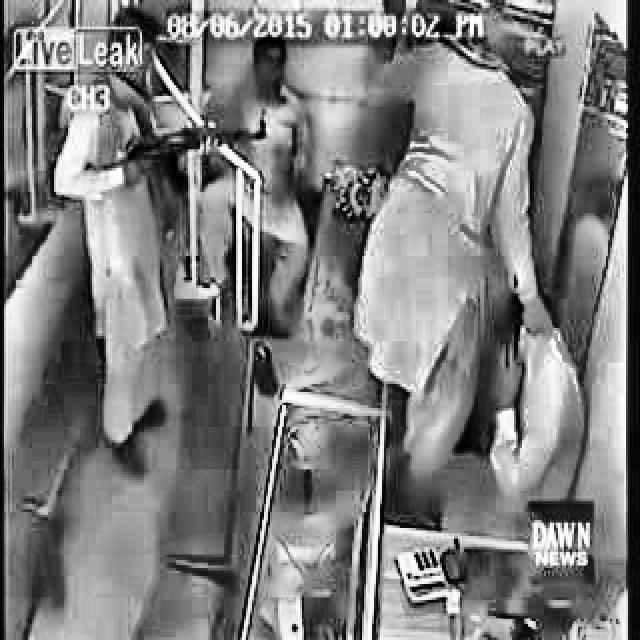Weapon: (348, 38, 622, 510), (74, 23, 174, 486), (248, 36, 329, 134)
